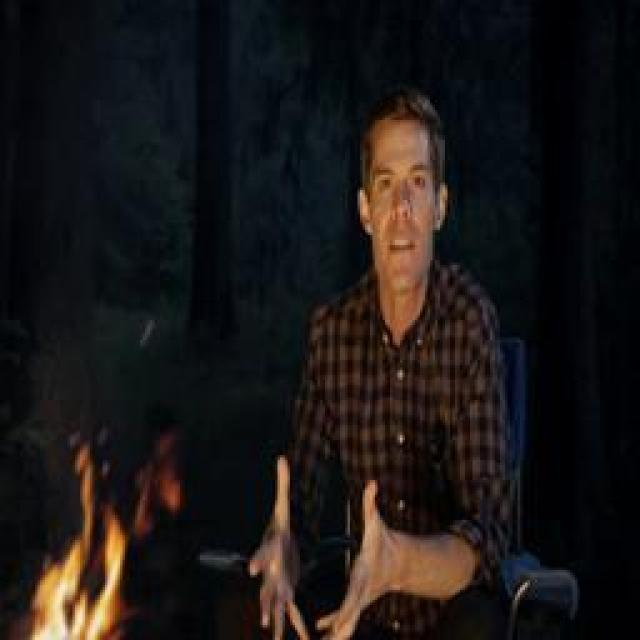Fire: (29, 450, 182, 640)
